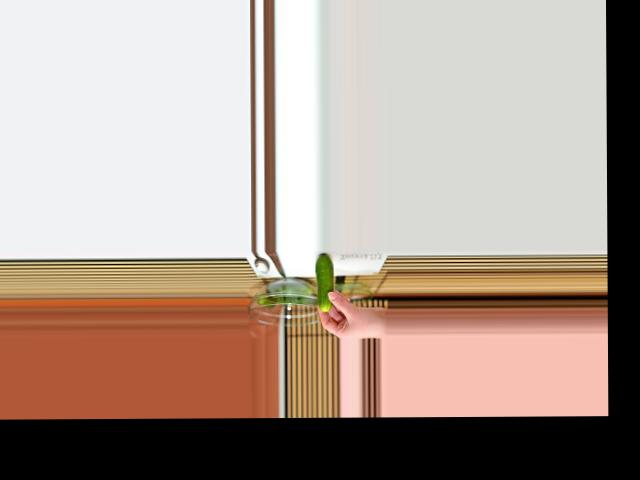cucumber: (315, 253, 334, 311)
